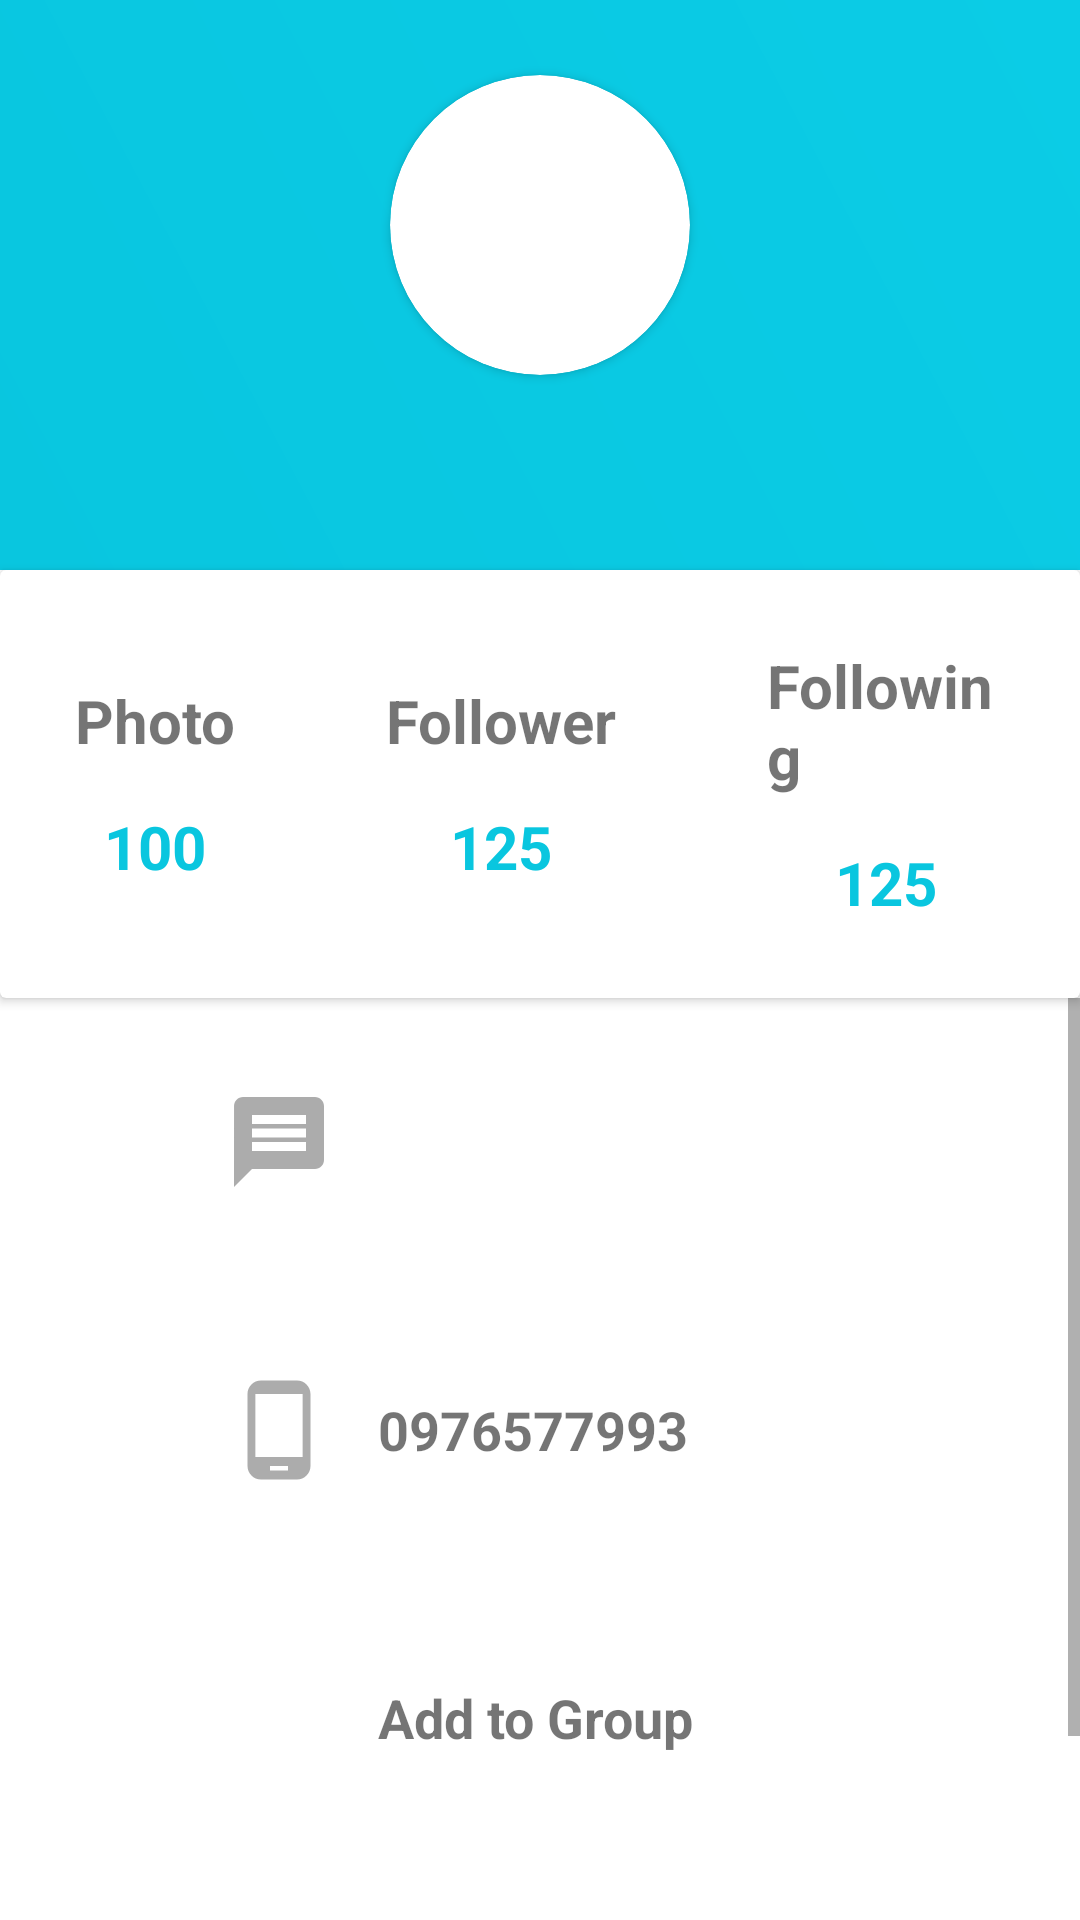

Screen size 1080*1920. Icon name, then its center in pixels as (x,y):
message: (279,1142)
phone android: (279,1430)
